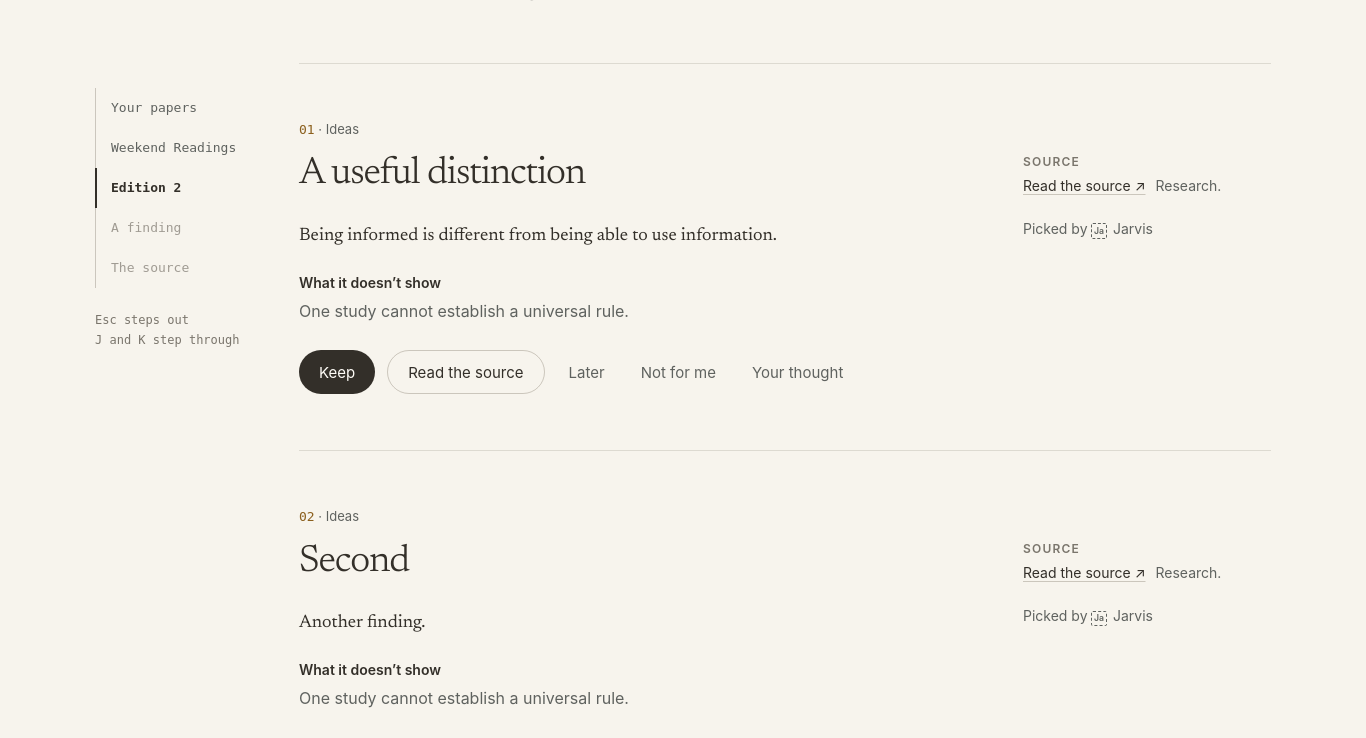
Scenario: ends with what you kept and what comes next
The width and height of the screenshot is (1366, 738).
(page scrolled)
Check: the text "Being informed is different from being able to use information." is shown, box [299,227,777,245]
Click the 1st button "Keep".
click(337, 372)  # box [299,350,375,394]
(page scrolled)
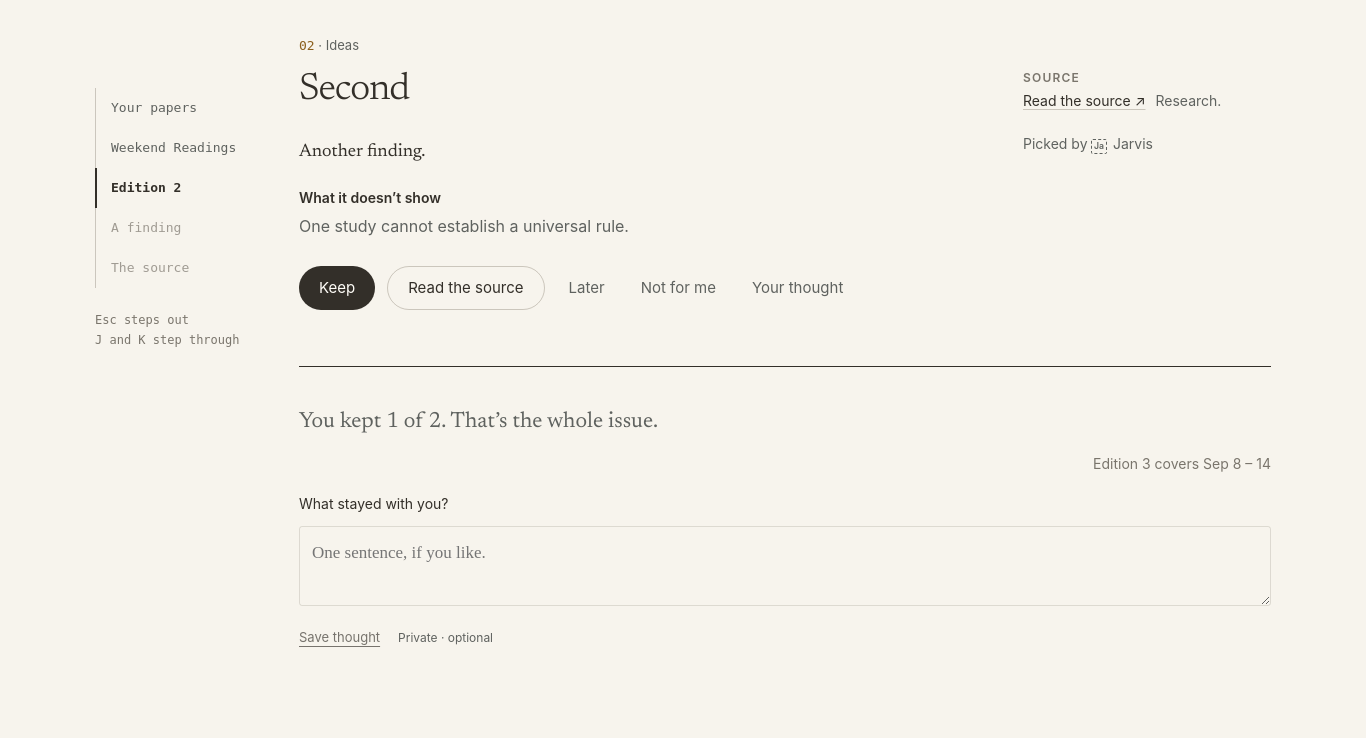
Check: the text "You kept 1 of 2. That’s the whole issue." is shown, box [299,411,658,433]
